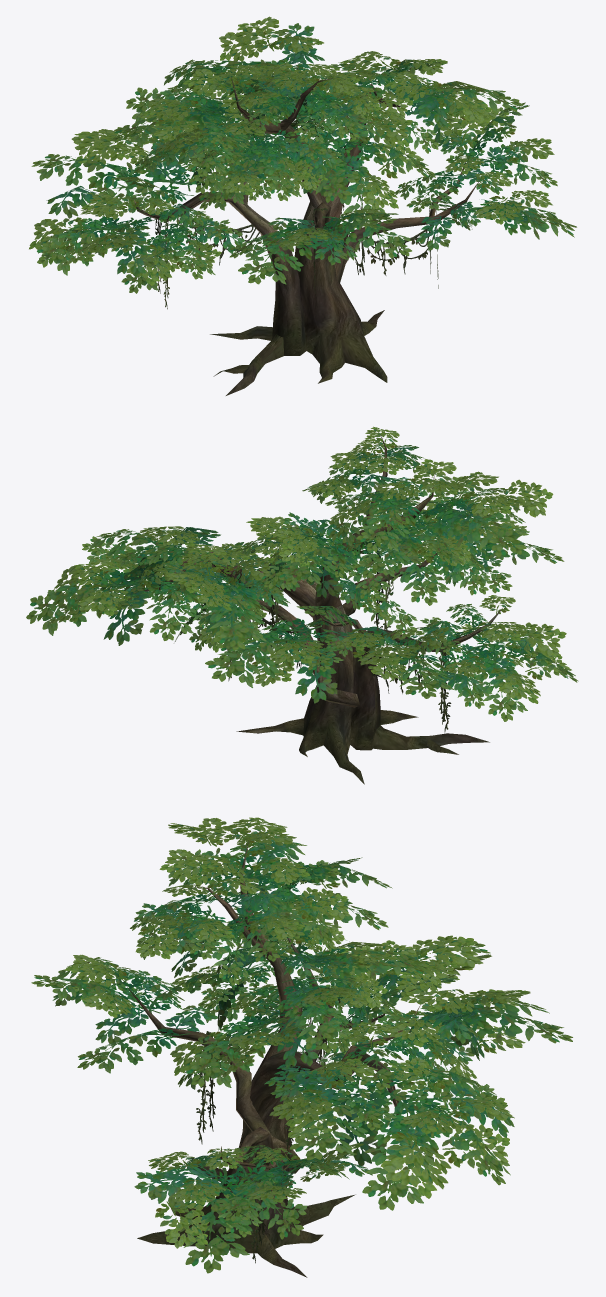
The model's file is S_Tree_Green061.FBX.
3 views of the same model, one above another, from view 1: azimuth 30°, elevation 25°; view 2: azimuth 150°, elevation 25°; view 3: azimuth 270°, elevation 25° (orthographic). The views are drawn at different scales.
Parts seen in each view (by area): view 1: S_Tree_Green061_2, S_Tree_Green061_1, S_Tree_Green061_3, S_Tree_Green061_4; view 2: S_Tree_Green061_2, S_Tree_Green061_1, S_Tree_Green061_4; view 3: S_Tree_Green061_2, S_Tree_Green061_1, S_Tree_Green061_4.
Part boxes in pixels (bbox=[...]): S_Tree_Green061_2: bbox=[29, 16, 576, 293]; S_Tree_Green061_1: bbox=[134, 65, 479, 395]; S_Tree_Green061_3: bbox=[176, 215, 436, 275]; S_Tree_Green061_4: bbox=[155, 139, 438, 309]; S_Tree_Green061_2: bbox=[26, 426, 578, 721]; S_Tree_Green061_1: bbox=[144, 435, 503, 784]; S_Tree_Green061_4: bbox=[226, 557, 451, 732]; S_Tree_Green061_2: bbox=[31, 817, 572, 1273]; S_Tree_Green061_1: bbox=[126, 840, 420, 1277]; S_Tree_Green061_4: bbox=[196, 986, 322, 1263].
Bounding box in the file's own units: 611 × 338 × 518.
